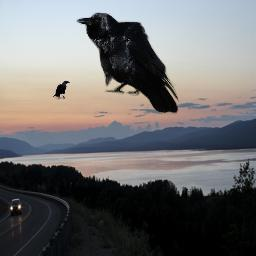Crow: (76, 12, 181, 115), (52, 80, 70, 100)
